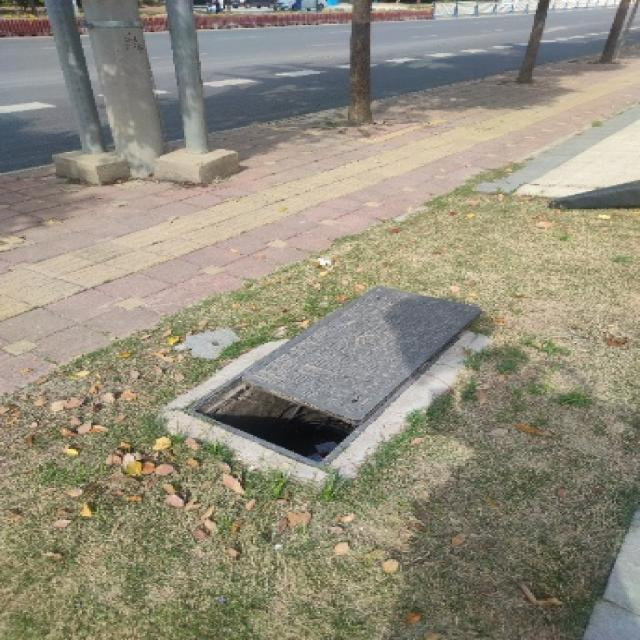Faulty: (136, 268, 509, 492)
